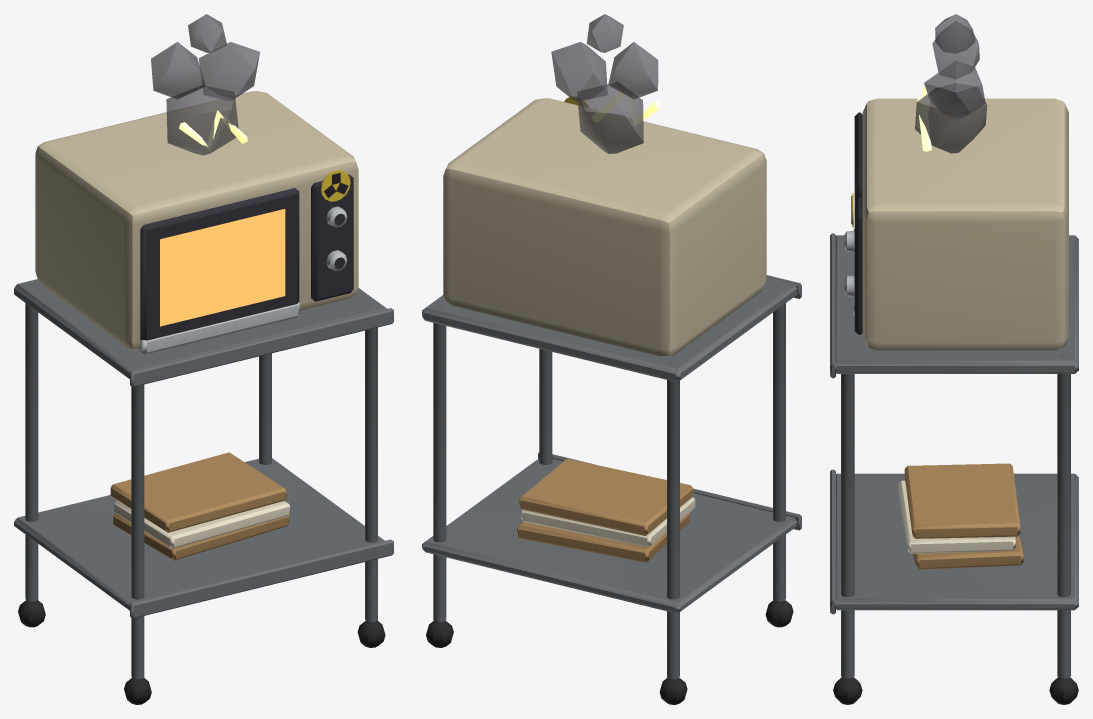
Rendered from microwave_nuke.glb.
3 views of the same model, side by side, from view 1: azimuth 30°, elevation 25°; view 2: azimuth 150°, elevation 25°; view 3: azimuth 270°, elevation 25° (orthographic). The views are drawn at different scales.
Visible parts, largest first — view 1: microwave_nuke, screen, broken; view 2: microwave_nuke, broken; view 3: microwave_nuke, broken.
Boxes of the visible parts, x1,y1,x2,y2 form: microwave_nuke: [14, 91, 393, 704]; screen: [160, 209, 285, 326]; broken: [151, 14, 259, 155]; microwave_nuke: [422, 96, 801, 704]; broken: [551, 14, 660, 153]; microwave_nuke: [830, 98, 1078, 704]; broken: [915, 14, 987, 153].
Size of the model in its own units: 0.63 by 1.42 by 0.506.
